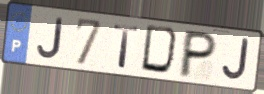7: (75, 16, 104, 68)
D: (139, 23, 183, 78)
J: (220, 37, 251, 83), (35, 16, 65, 61)
P: (176, 29, 220, 80)
T: (112, 23, 141, 71)
